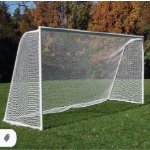goals: (3, 25, 146, 132)
